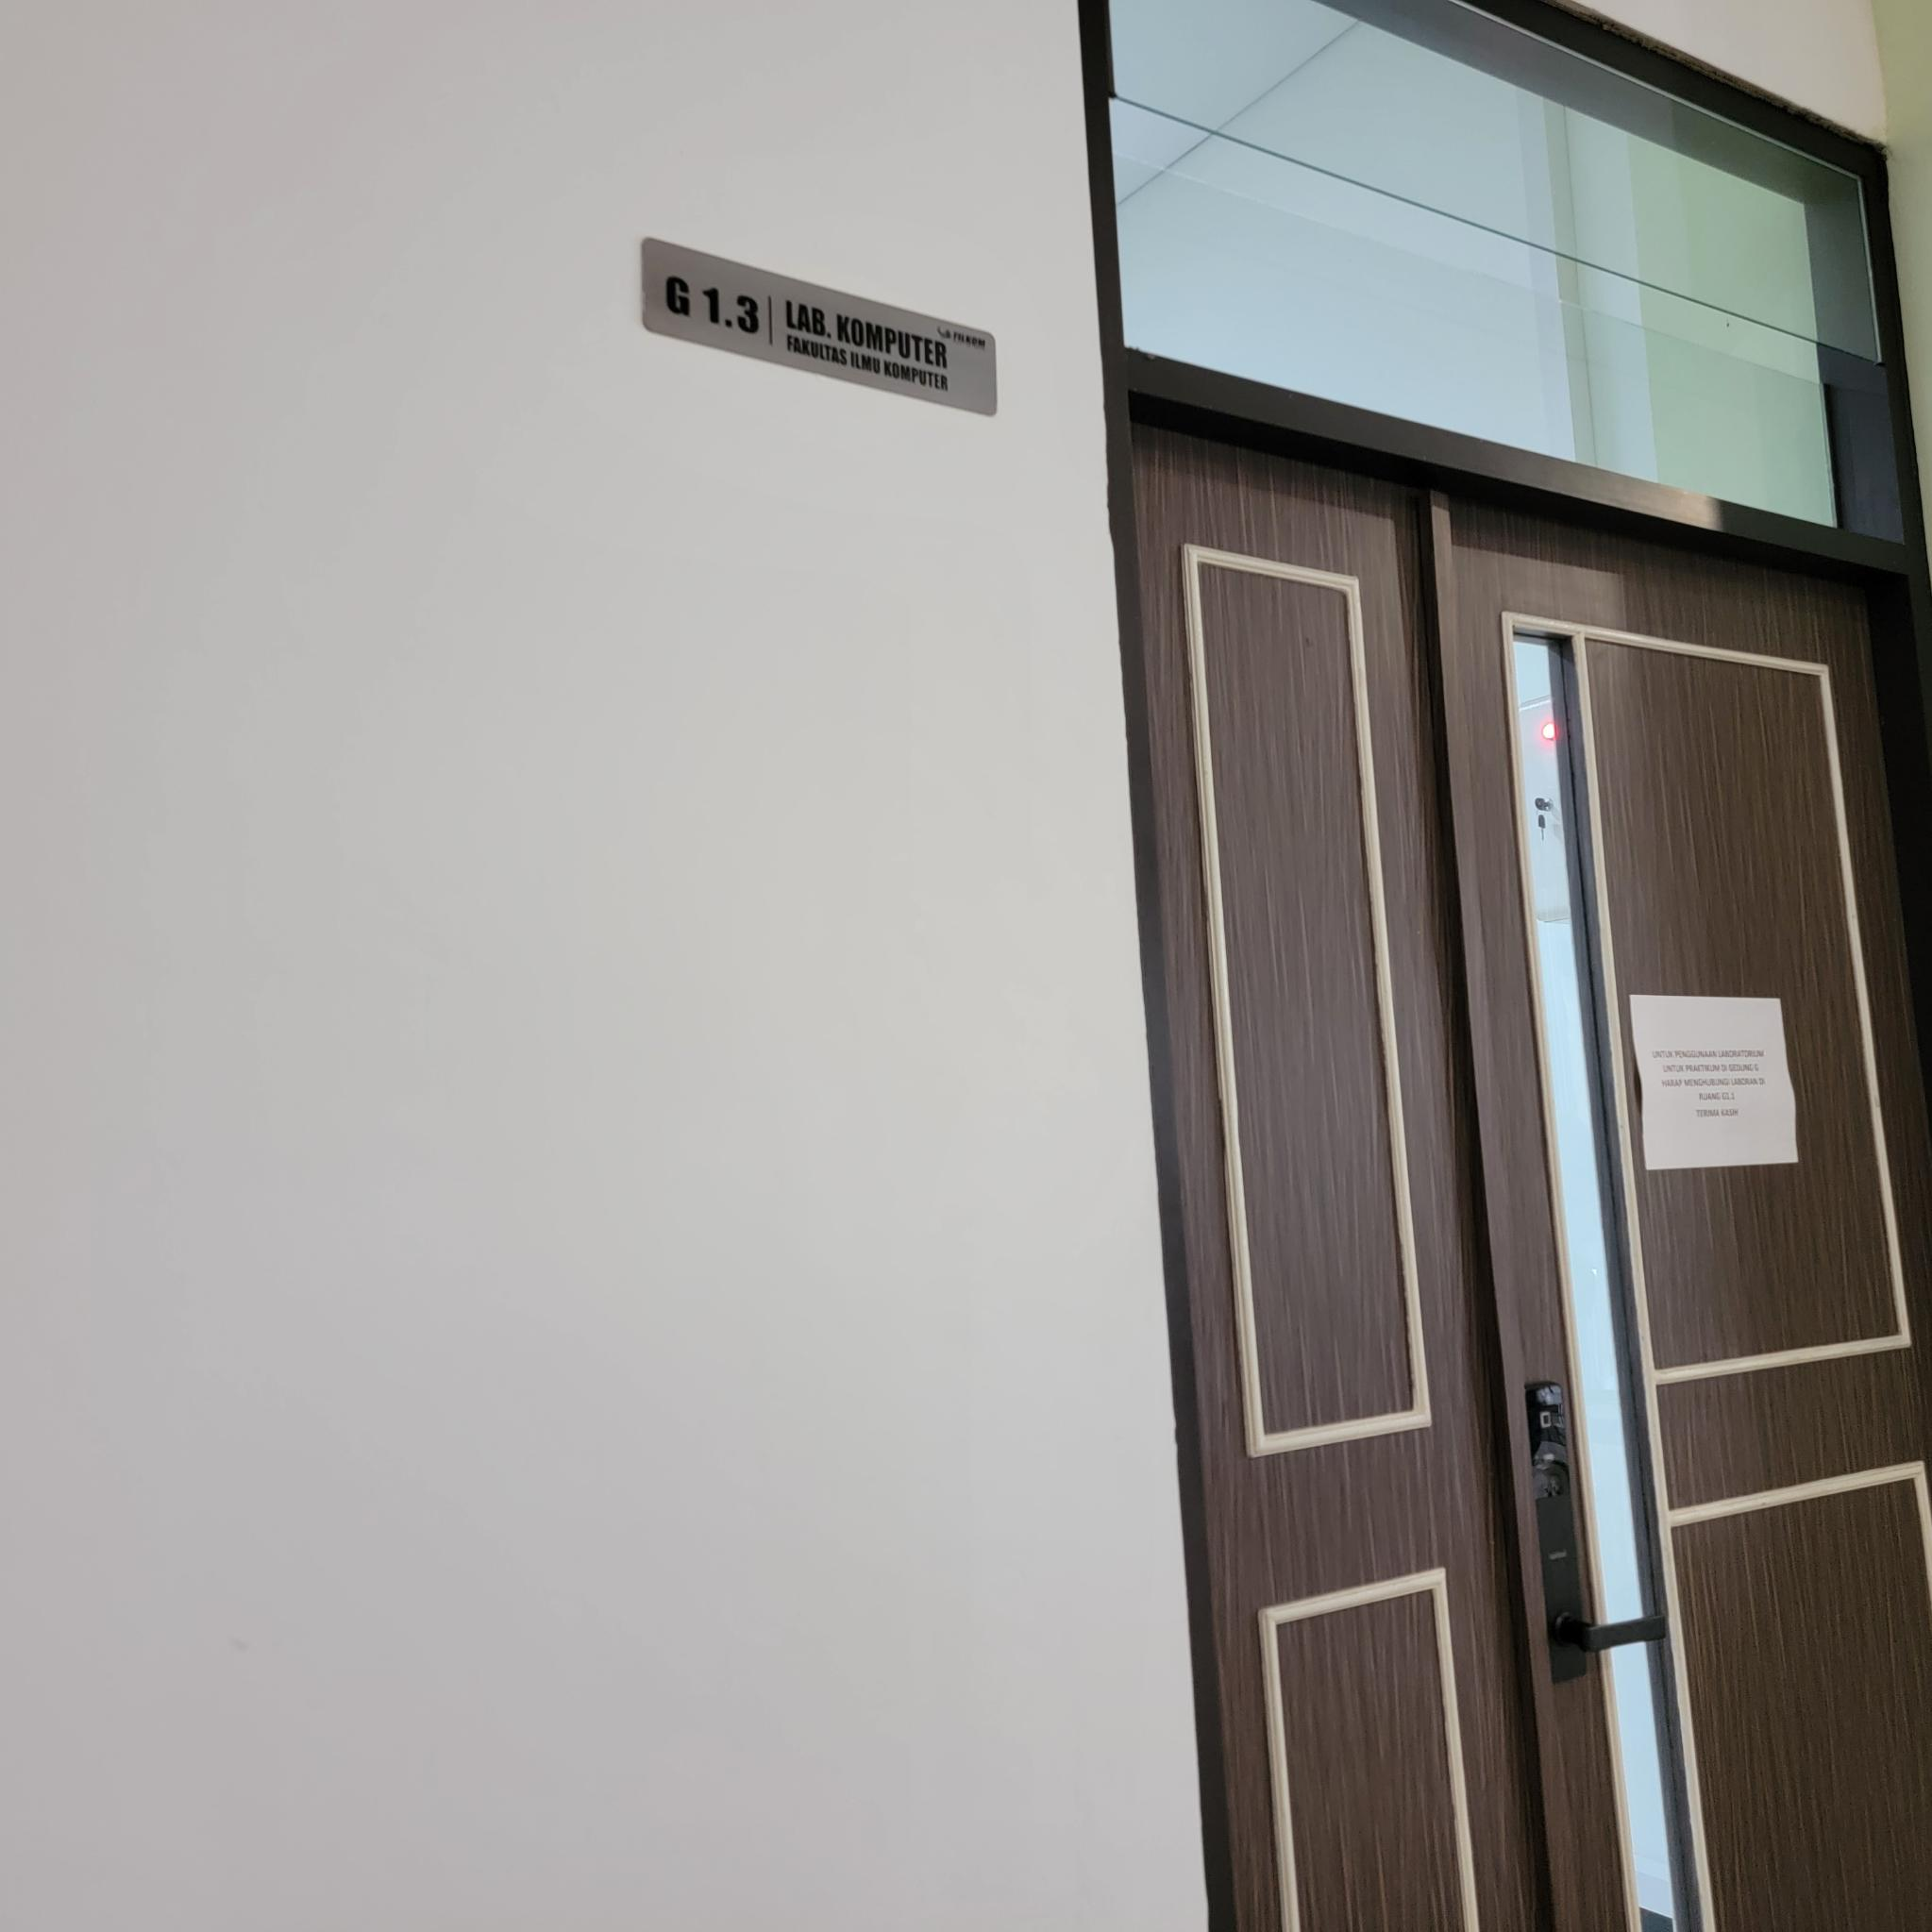plate: (640, 235, 1000, 419)
